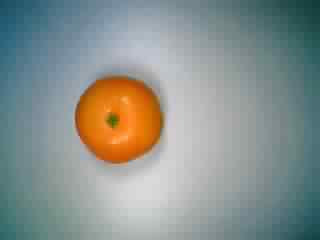orange: (71, 68, 167, 164)
